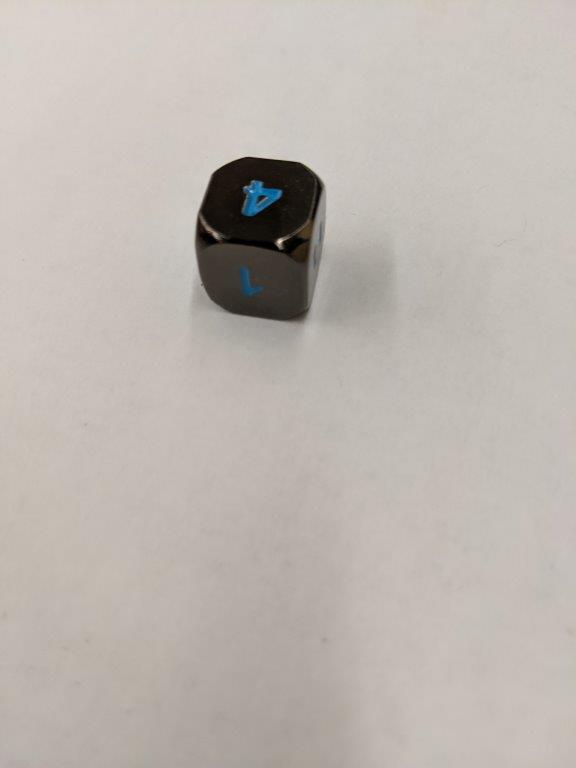d6-4: (193, 156, 326, 321)
